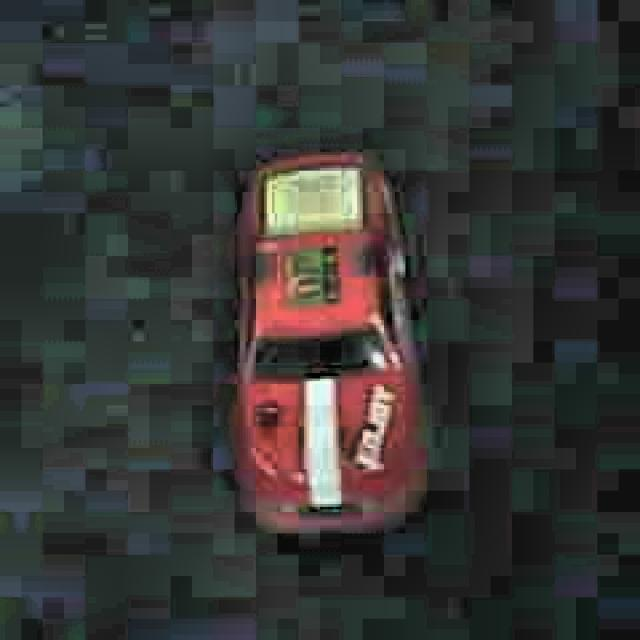car: (218, 137, 434, 550)
